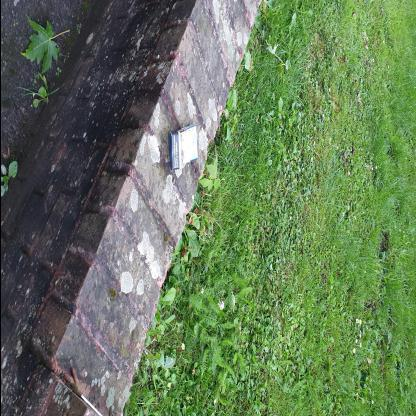karton: (168, 126, 198, 172)
